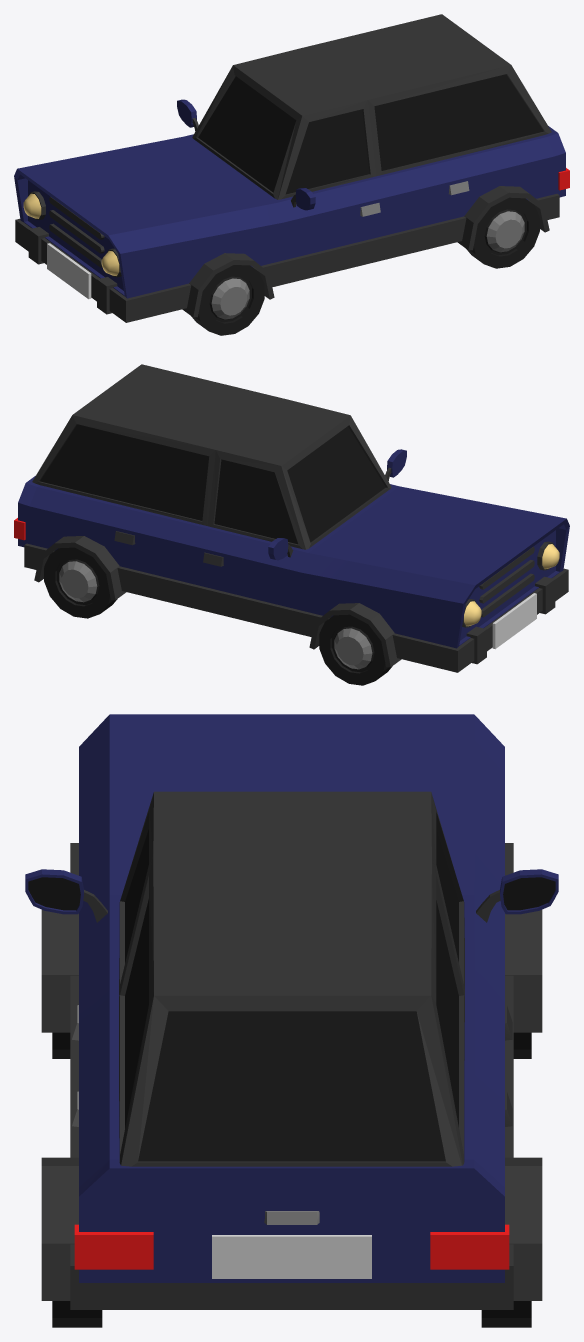
Rendered from SM_car_town_02.fbx.
3 renders of one model, top to bottom at view 1: azimuth 30°, elevation 25°; view 2: azimuth 150°, elevation 25°; view 3: azimuth 270°, elevation 25°, orthographic. The views are drawn at different scales.
Visible parts, largest first — view 1: Object126; view 2: Object126; view 3: Object126.
Part boxes in pixels (x1,y1,x2,y2): Object126: (14, 14, 569, 335); Object126: (14, 364, 569, 685); Object126: (25, 714, 558, 1327).
Size of the model in its own units: 163 by 60.83 by 82.97.
